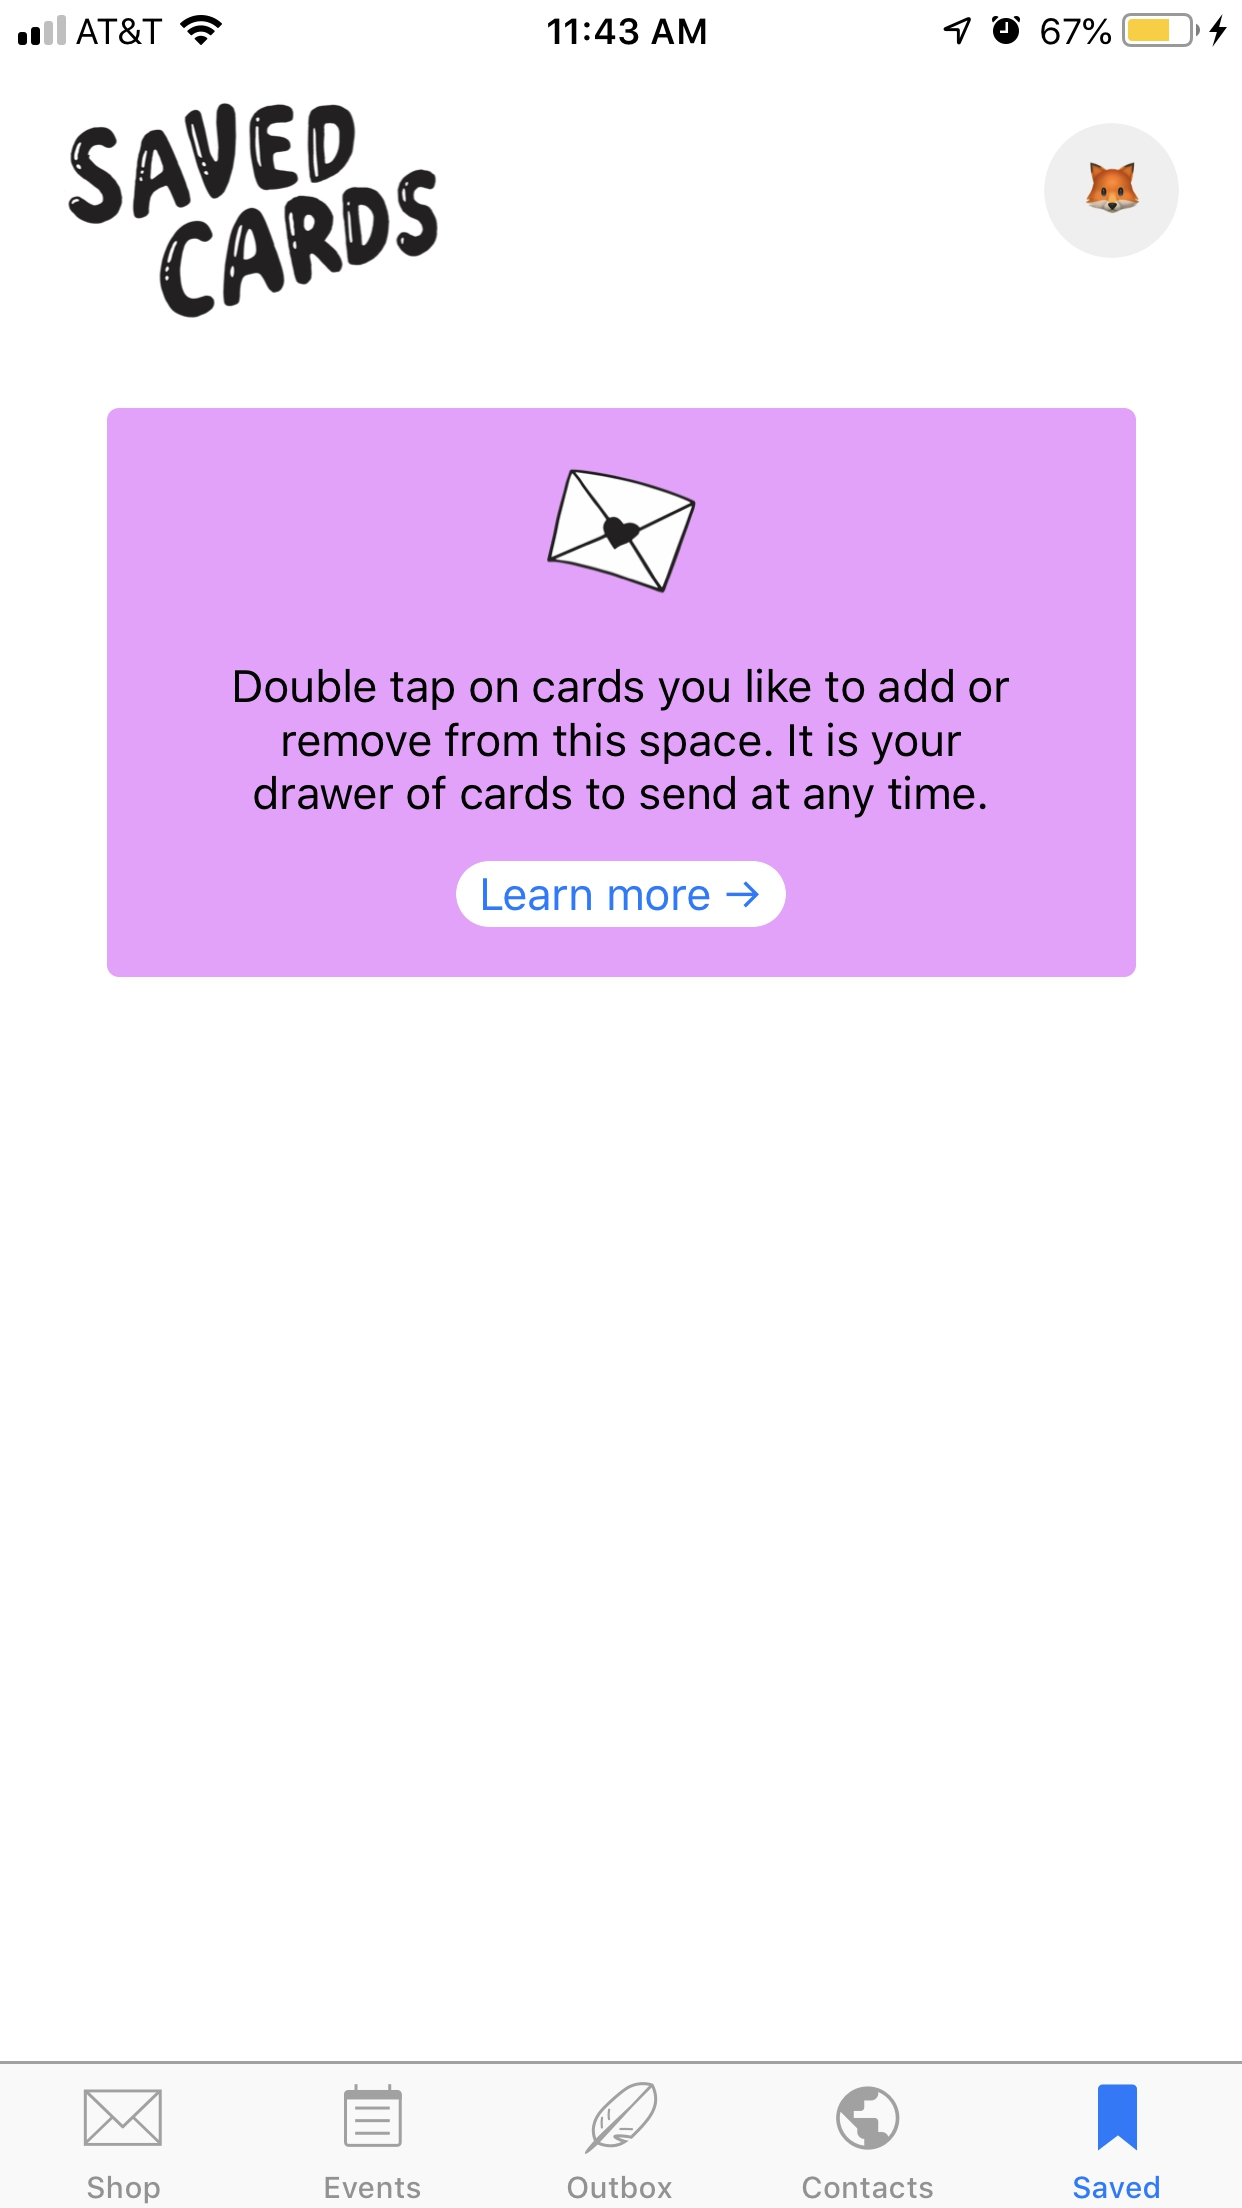Icon: (83, 2088, 164, 2147), (344, 2084, 403, 2147), (1096, 2084, 1137, 2150)
Image: (70, 105, 440, 320), (546, 469, 696, 594), (1043, 123, 1180, 259), (584, 2081, 658, 2155), (836, 2087, 901, 2150)
Text: (234, 667, 1011, 819), (804, 2175, 934, 2199), (567, 2175, 673, 2199), (326, 2175, 422, 2199), (88, 2175, 161, 2203), (1074, 2175, 1160, 2199)
TextButton: (456, 861, 789, 930)
UpperTaskBar: (2, 2, 1242, 49)
